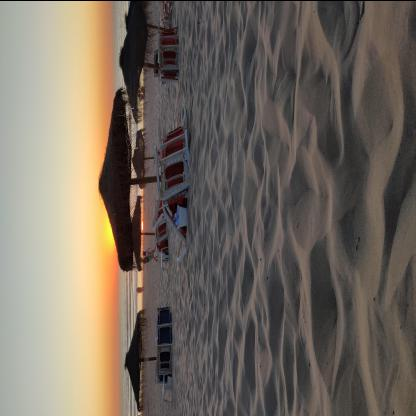plastik: (173, 209, 179, 219), (174, 216, 178, 224)
